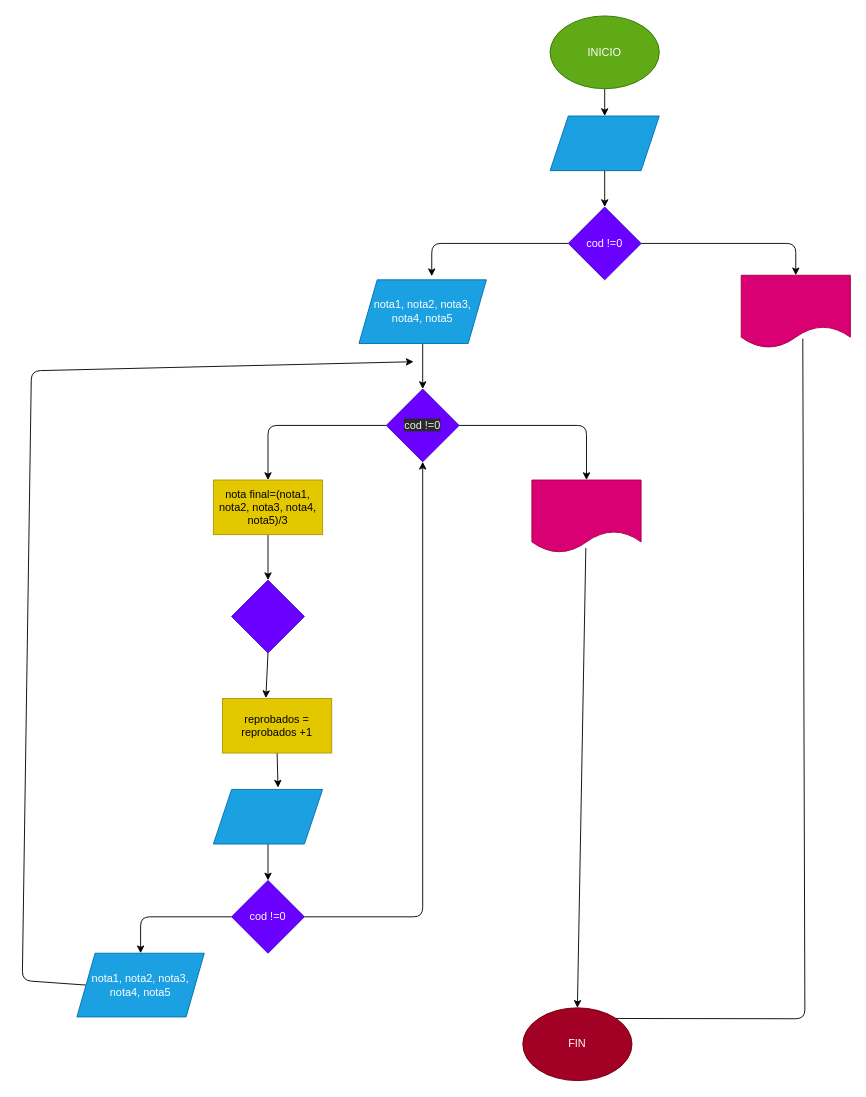
Image size: 866x1097. Some labels were removed from this diagram. Here are the shapes that lost their labels. From the top down, the centre of each, then its label:
(x=604, y=143): cod reprobados=0
(x=795, y=311): Fin de la entrada
(x=586, y=516): reprobados
(x=267, y=616): nota final < 3
(x=267, y=816): cod
